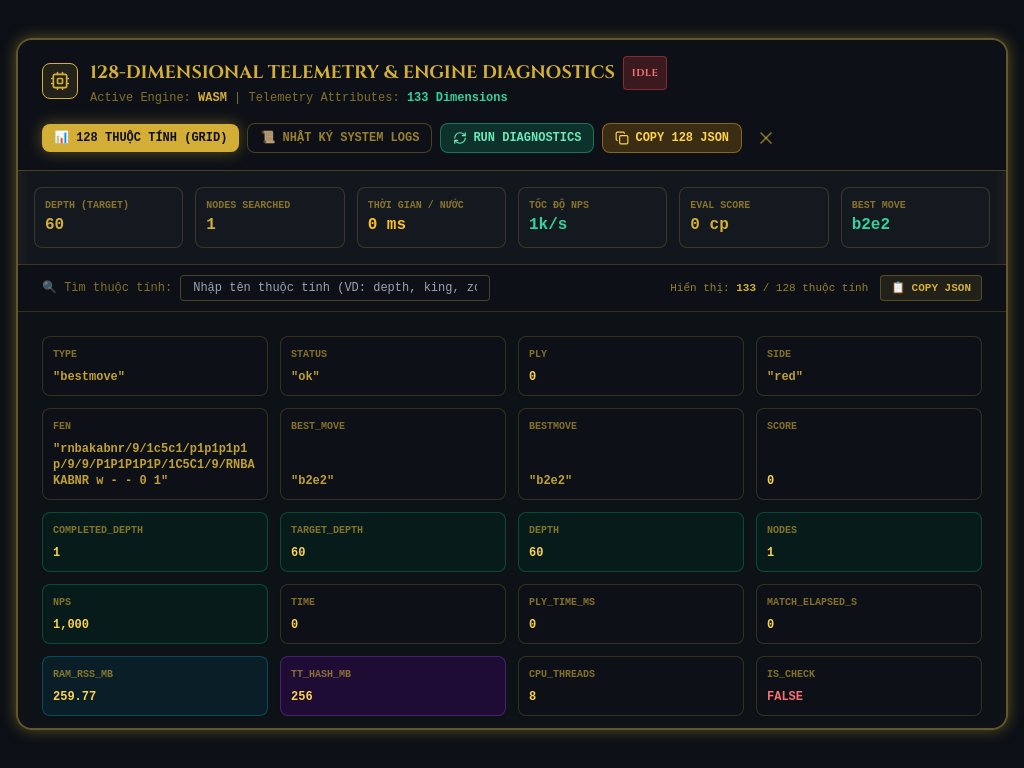
Test: Milestone M1 Empirical Challenger Verification Suite › Debugger Component Suite › should execute full diagnostics check when button clicked
The width and height of the screenshot is (1024, 768).
Click the button "RUN DIAGNOSTICS": {"x": 517, "y": 138} left=440, top=123, right=594, bottom=153
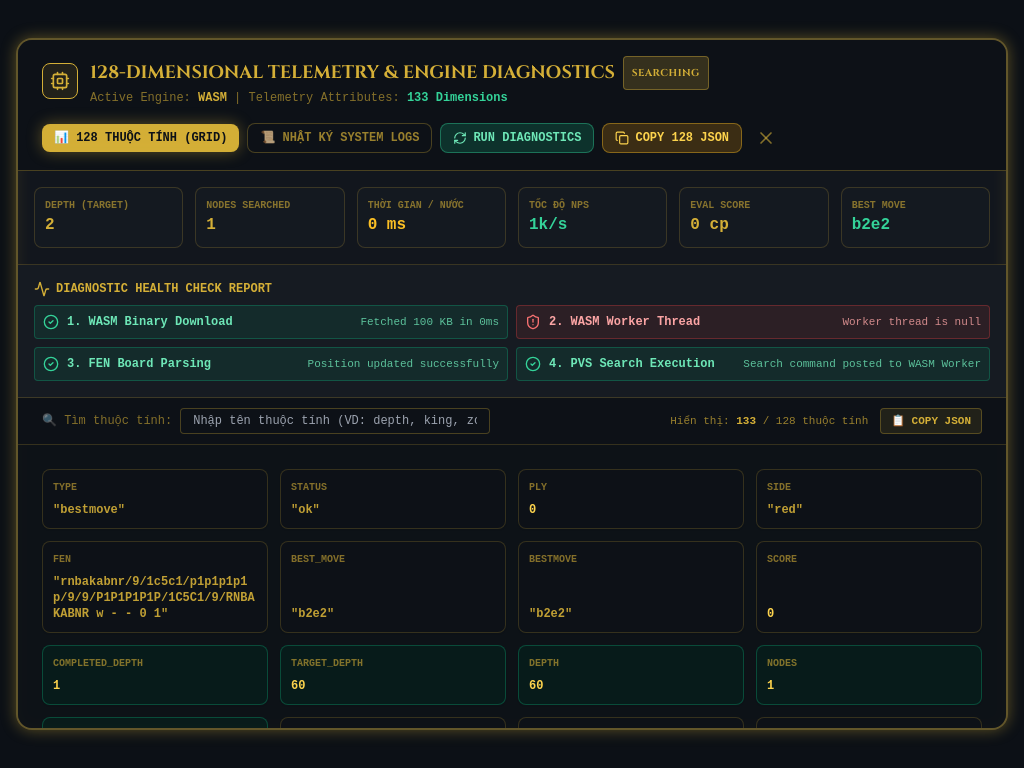
Now the heading "DIAGNOSTIC HEALTH CHECK REPORT" is shown, box left=34, top=281, right=272, bottom=297
Now the text "1. WASM Binary Download" is shown, box left=67, top=314, right=233, bottom=330
